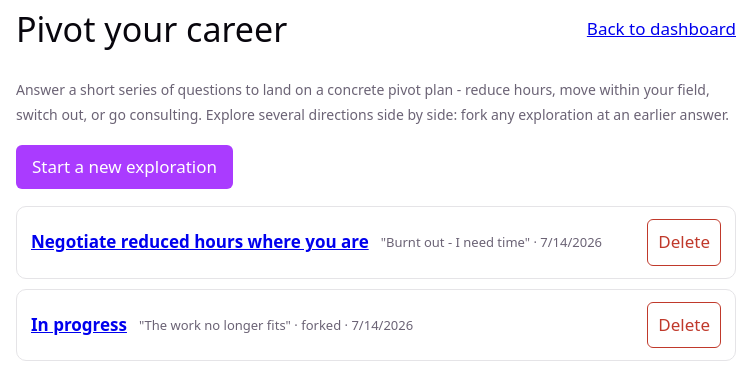
it: pivot list › lists explorations and starts a new one
expect the text "Negotiate reduced hours where you are" is shown: met, box [31, 230, 369, 253]
expect the text "In progress" is shown: met, box [31, 313, 127, 336]
Click the button "Start a new exploration": click(124, 167) [16, 144, 233, 189]
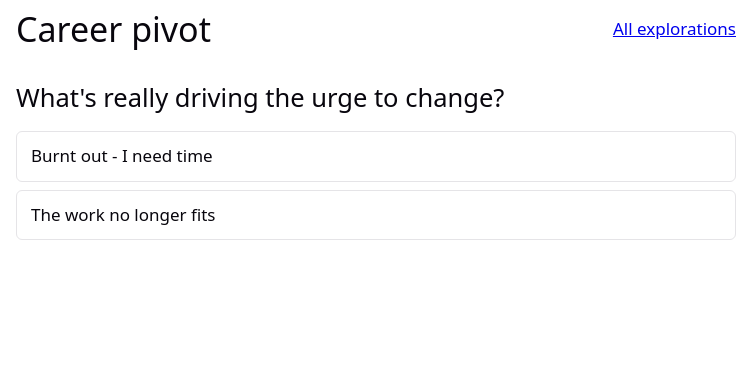
expect the heading "What's really driving the urge to change?" is shown: met, box [16, 80, 504, 114]
